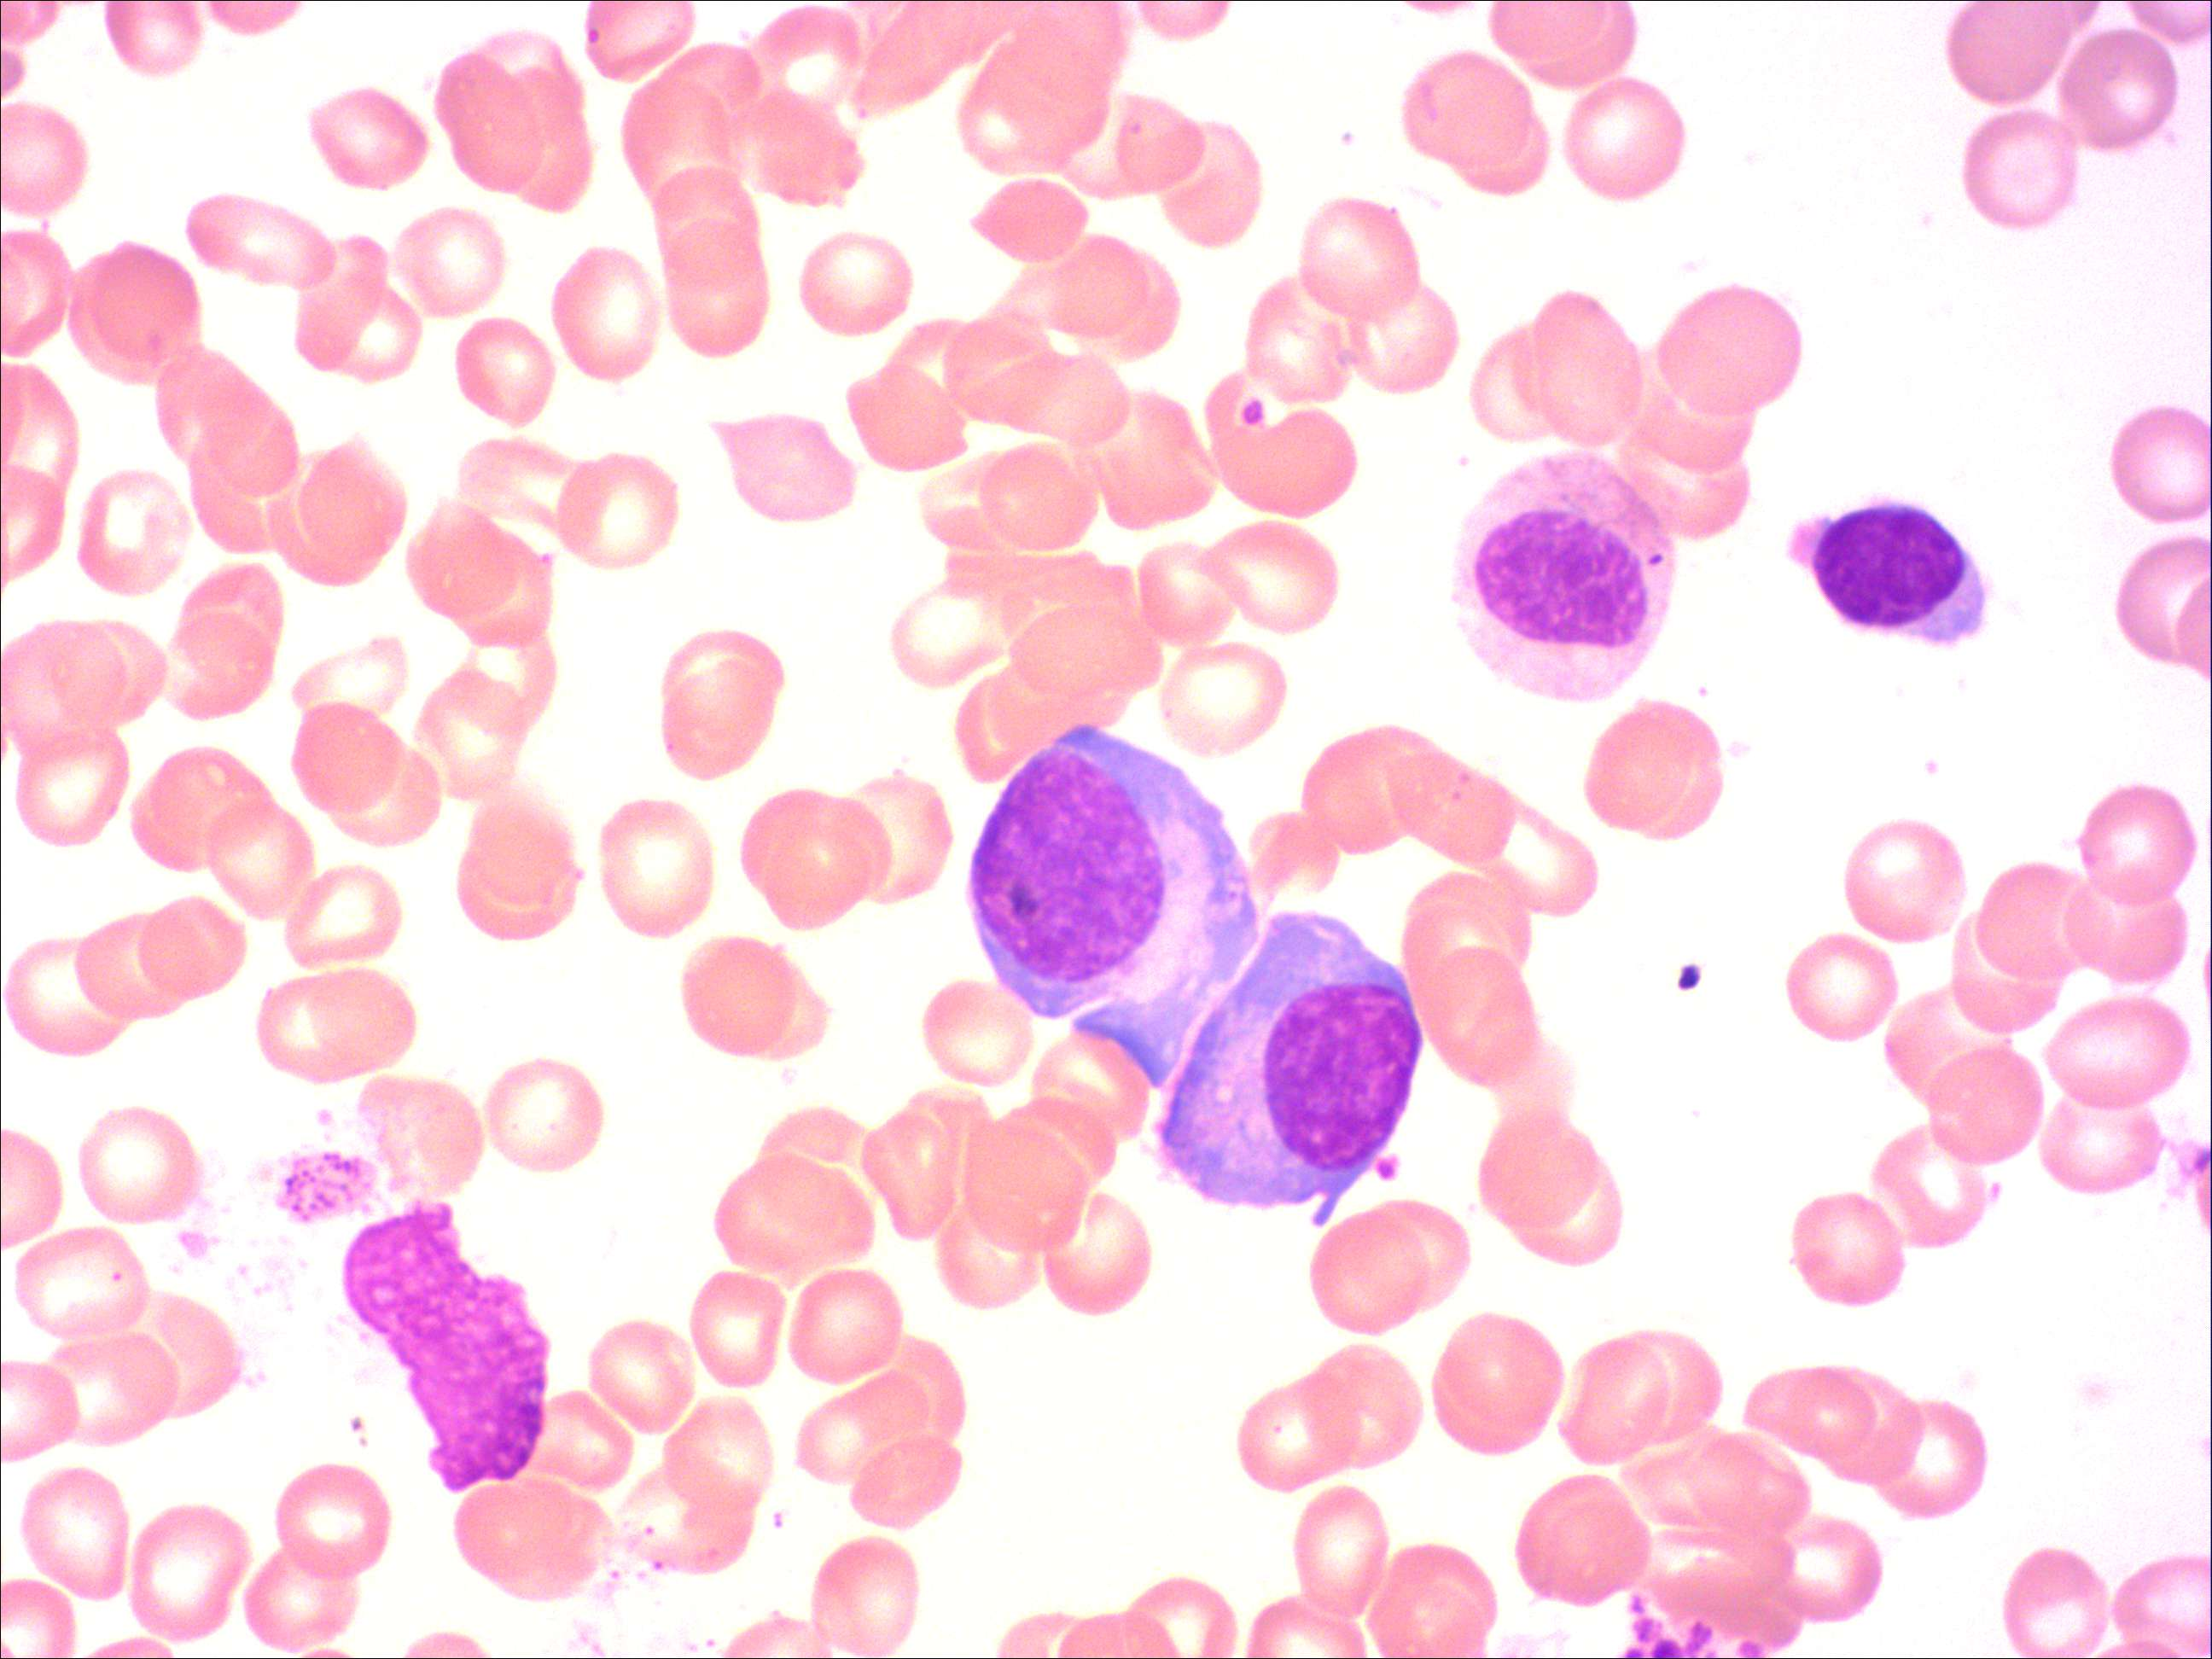32: (1780, 488, 1994, 653)
4: (1446, 444, 1681, 706)
51: (958, 718, 1263, 1094), (1146, 906, 1426, 1232)
x: (333, 1194, 559, 1504)
